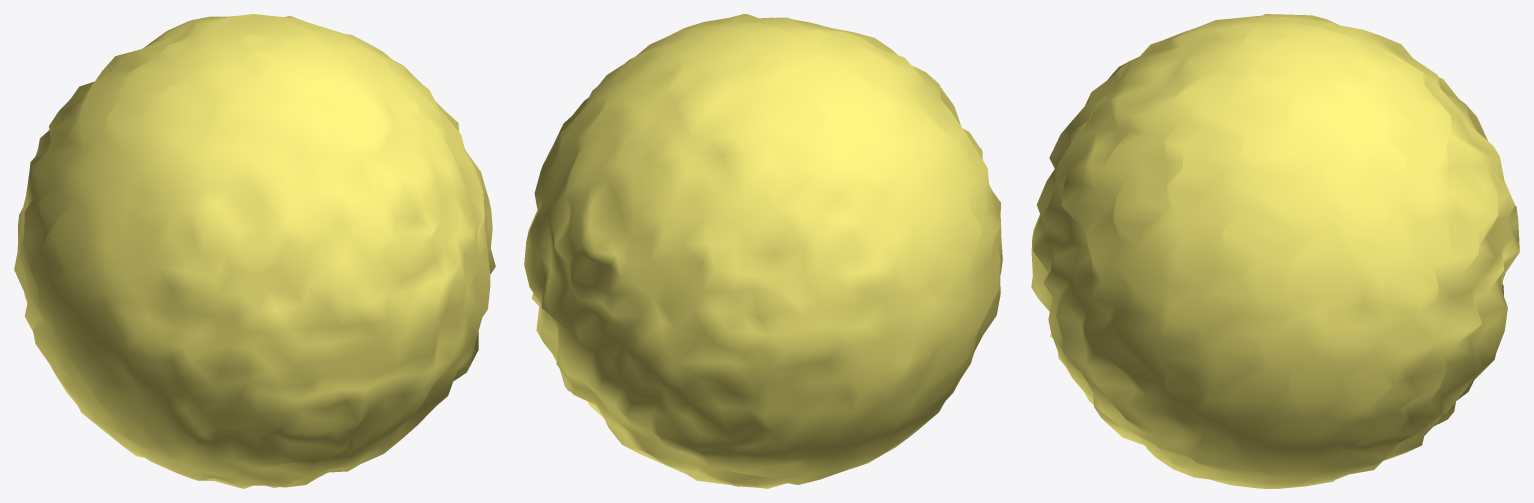
The model's file is solTaniaCorregido.glb.
3 views of the same model, side by side, from view 1: azimuth 30°, elevation 25°; view 2: azimuth 150°, elevation 25°; view 3: azimuth 270°, elevation 25° (orthographic).
Parts seen in each view (by area): view 1: GeoSphere001; view 2: GeoSphere001; view 3: GeoSphere001.
Boxes of the visible parts, x1,y1,x2,y2 form: GeoSphere001: (14,14,495,488); GeoSphere001: (524,14,1002,488); GeoSphere001: (1031,14,1519,488).
Bounding box in the file's own units: 103 × 102 × 105.
